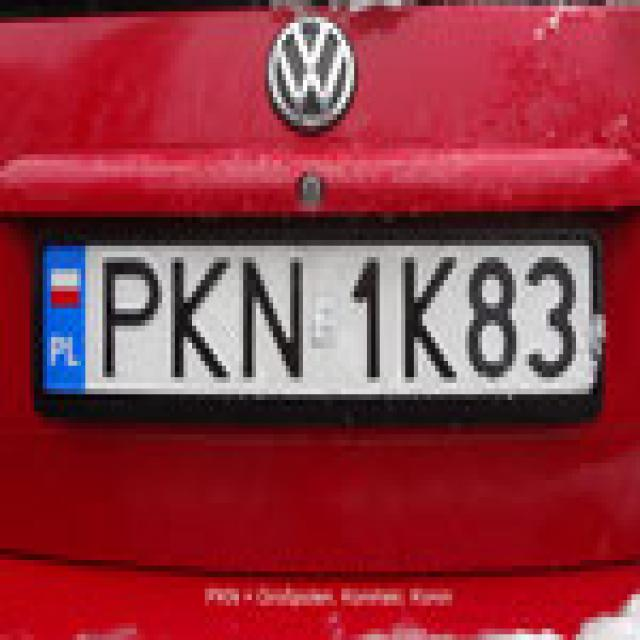pl_license_plate: (38, 240, 584, 389)
